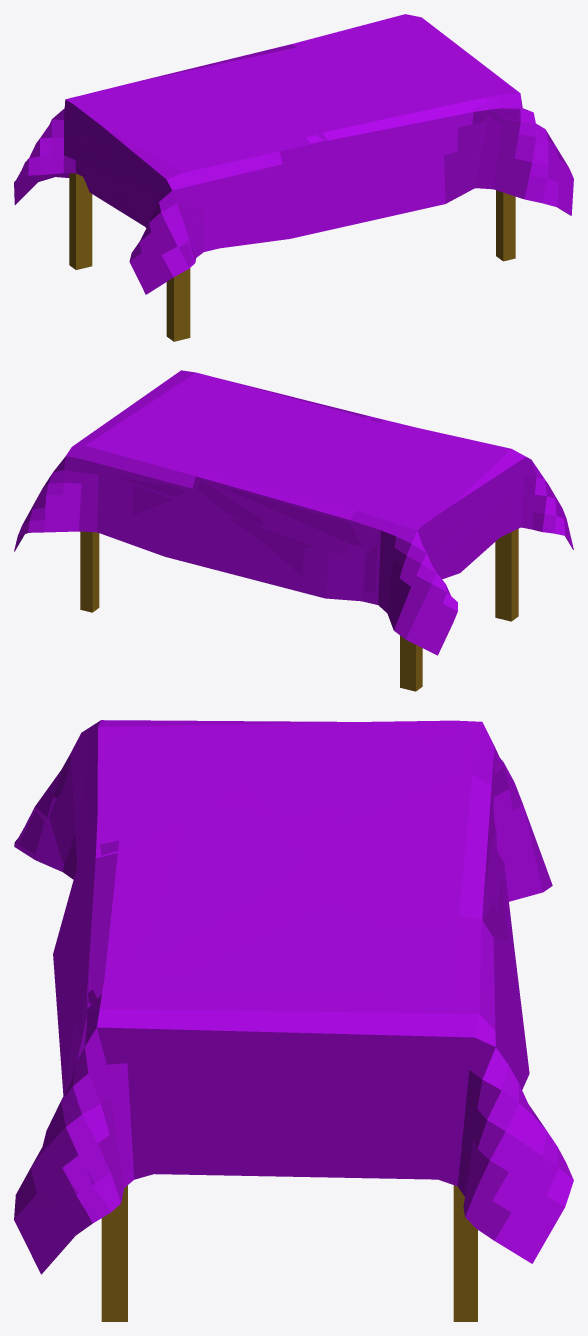
Rendered from TableAddCloth.fbx.
3 renders of one model, top to bottom at view 1: azimuth 30°, elevation 25°; view 2: azimuth 150°, elevation 25°; view 3: azimuth 270°, elevation 25°, orthographic. The views are drawn at different scales.
Visible parts, largest first — view 1: Cloth, Table; view 2: Cloth, Table; view 3: Cloth, Table.
Part boxes in pixels (x1=…): Cloth: x1=14, y1=14, x2=573, y2=294; Table: x1=69, y1=173, x2=515, y2=341; Cloth: x1=14, y1=370, x2=573, y2=655; Table: x1=80, y1=529, x2=518, y2=691; Cloth: x1=14, y1=720, x2=573, y2=1274; Table: x1=101, y1=1185, x2=477, y2=1321.
Bounding box in the file's own units: 449 × 164 × 274.
